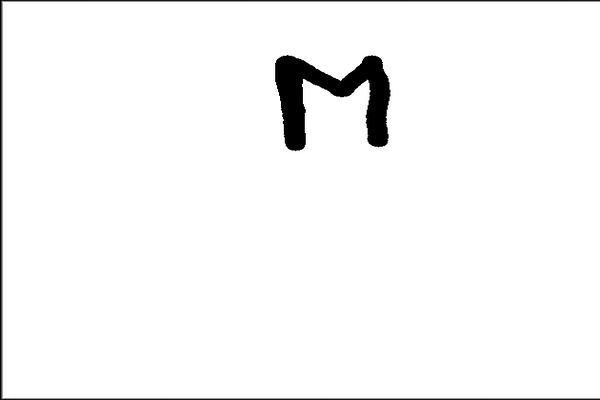M: (270, 51, 393, 150)
